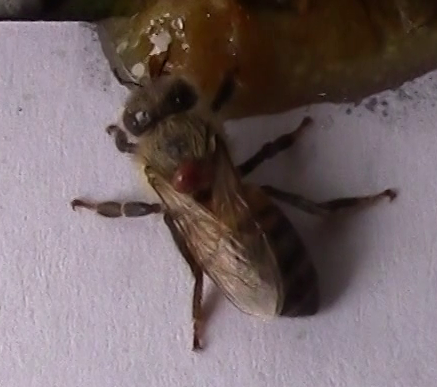Varroa destructor: (167, 154, 210, 196)
